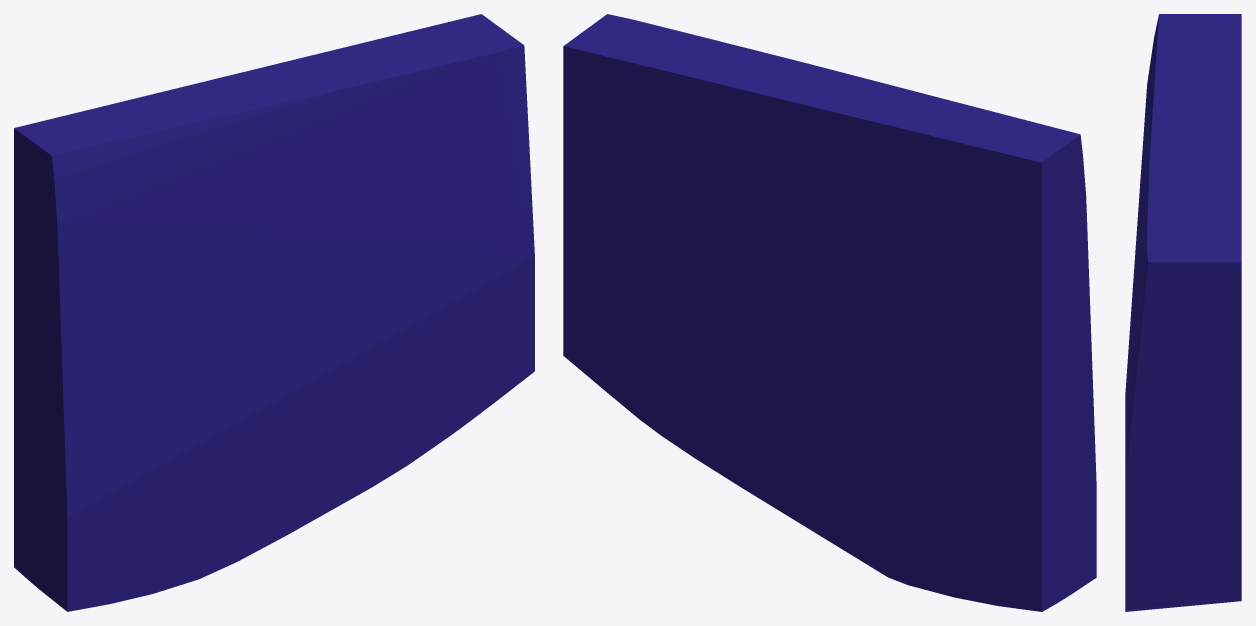
Rendered from piece_18.obj.
3 renders of one model, left to right at view 1: azimuth 30°, elevation 25°; view 2: azimuth 150°, elevation 25°; view 3: azimuth 270°, elevation 25°, orthographic. The views are drawn at different scales.
Bounding box in the file's own units: 0.0187 × 0.0172 × 0.00371.
